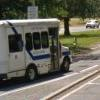Bus: (3, 12, 73, 85)
